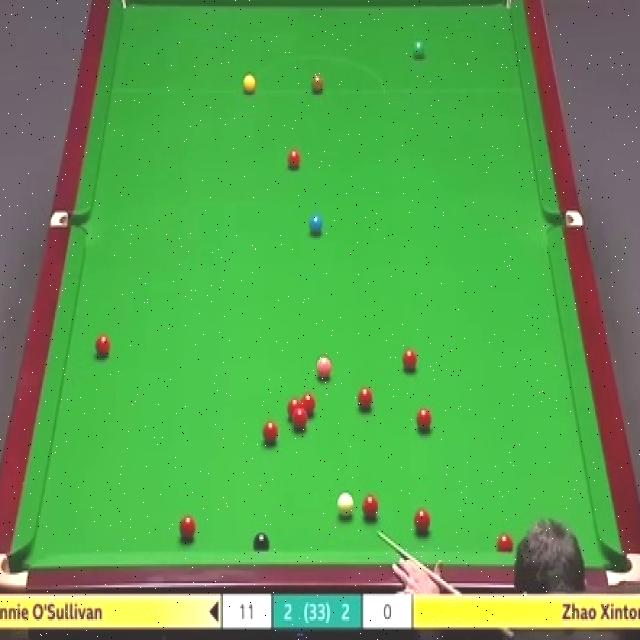black-ball: (252, 532, 272, 553)
blue-ball: (308, 215, 324, 236)
brown-ball: (311, 71, 323, 93)
green-ball: (410, 38, 425, 61)
pink-ball: (316, 357, 333, 383)
red-ball: (261, 418, 280, 449), (354, 384, 373, 411), (178, 514, 196, 542), (402, 346, 419, 374), (361, 496, 379, 522), (412, 509, 430, 534), (285, 147, 302, 172), (286, 398, 302, 423), (416, 408, 430, 436), (95, 334, 110, 359), (496, 532, 514, 552), (302, 393, 316, 418), (293, 411, 309, 432)
white-ball: (336, 488, 354, 526)
yellow-ball: (241, 74, 257, 94)
